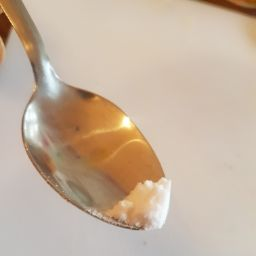Baking powder: (38, 120, 256, 256)
